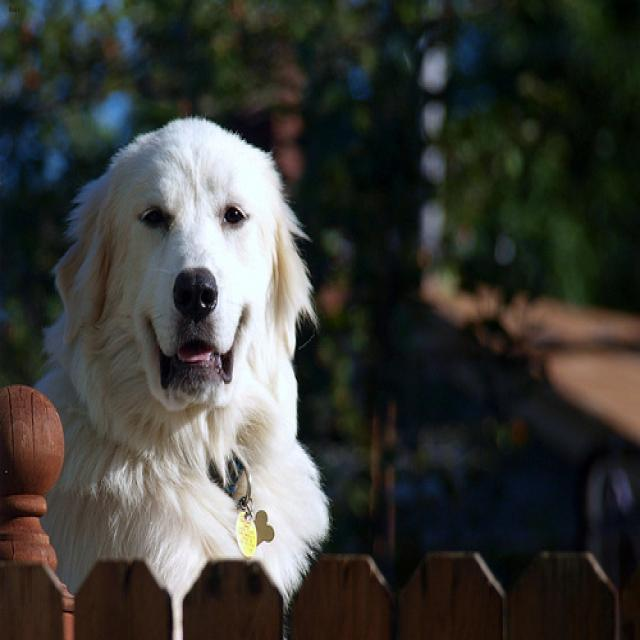dog-great_pyrenees: (26, 109, 346, 637)
